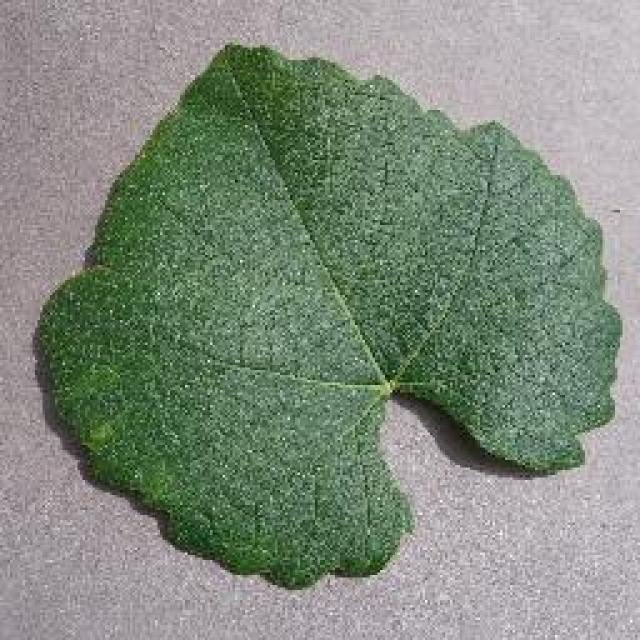Grape___healthy: (38, 45, 620, 585)
